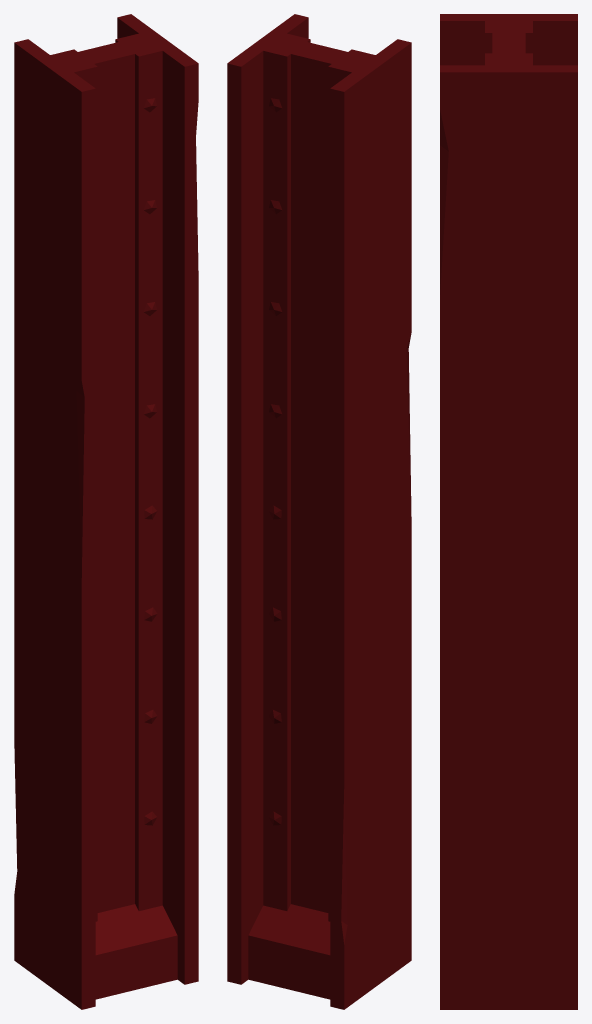
The model's file is SW_ENV_PillarGirderPlatform_3m.fbx.
The picture shows the model from 3 angles, left to right: view 1: azimuth 30°, elevation 25°; view 2: azimuth 150°, elevation 25°; view 3: azimuth 270°, elevation 25°; orthographic projection. The views are drawn at different scales.
Parts seen in each view (by area): view 1: SW_ENV_PillarGirderPlatform_3m; view 2: SW_ENV_PillarGirderPlatform_3m; view 3: SW_ENV_PillarGirderPlatform_3m.
Boxes of the visible parts, left/top/right/bottom form: SW_ENV_PillarGirderPlatform_3m: left=14, top=14, right=198, bottom=1009; SW_ENV_PillarGirderPlatform_3m: left=227, top=14, right=411, bottom=1009; SW_ENV_PillarGirderPlatform_3m: left=440, top=14, right=577, bottom=1009.
Bounding box in the file's own units: 40 × 300 × 40.
